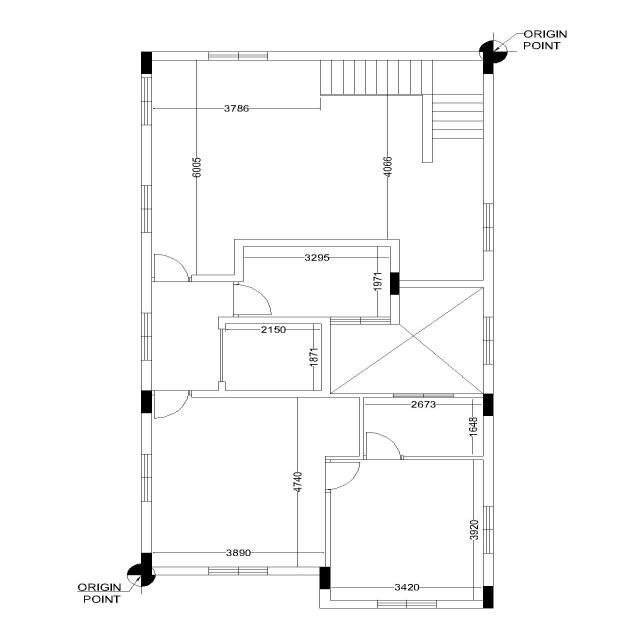Column: (141, 391, 152, 414), (141, 553, 152, 575), (141, 52, 152, 74), (390, 272, 400, 295), (483, 52, 493, 74), (483, 586, 493, 608), (320, 567, 330, 589), (484, 393, 493, 416)
Door: (230, 282, 273, 317), (152, 252, 192, 284), (364, 431, 404, 463), (323, 460, 361, 493), (153, 390, 193, 420)
Staircase: (320, 60, 482, 165)
Window: (481, 202, 496, 253), (328, 315, 392, 326), (481, 316, 495, 366), (481, 505, 495, 555), (208, 50, 269, 61), (140, 76, 153, 127), (140, 453, 153, 503), (140, 184, 153, 234), (140, 312, 153, 361), (376, 599, 438, 609), (208, 566, 269, 576), (392, 392, 455, 398)
